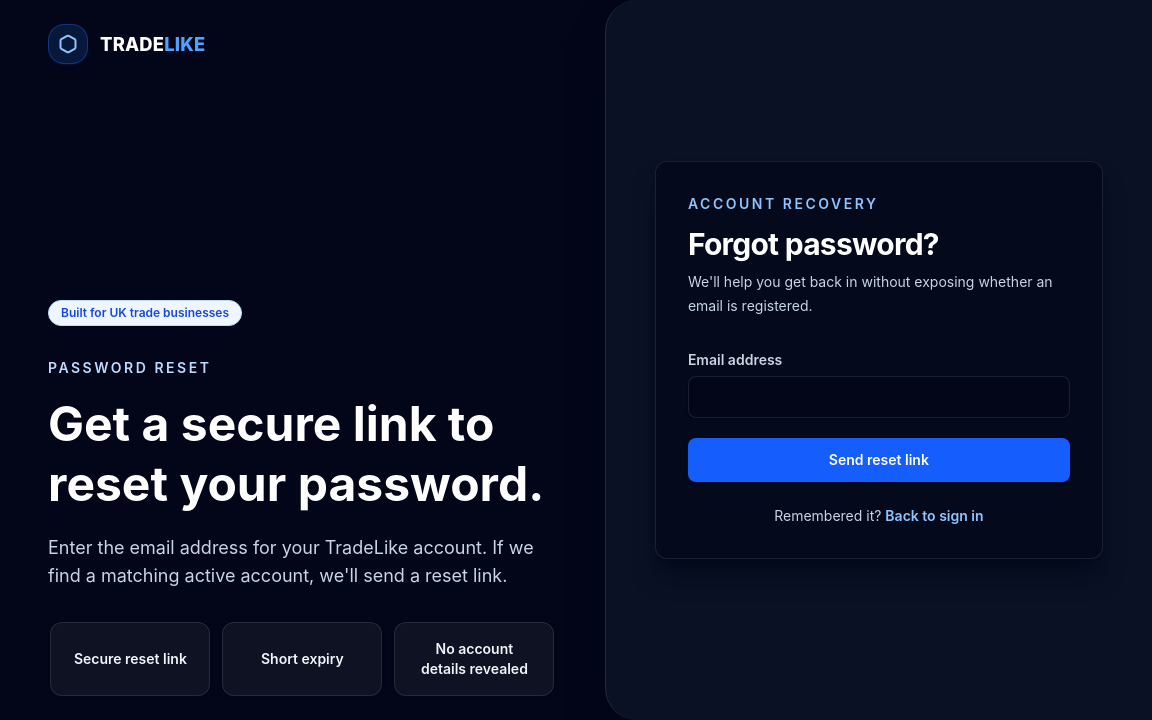
ForgotPassword › submits the email and shows the generic success message
Type "USER@example.com" into the field labelled "Email address" at {"x": 879, "y": 397}, box [688,376,1070,418]
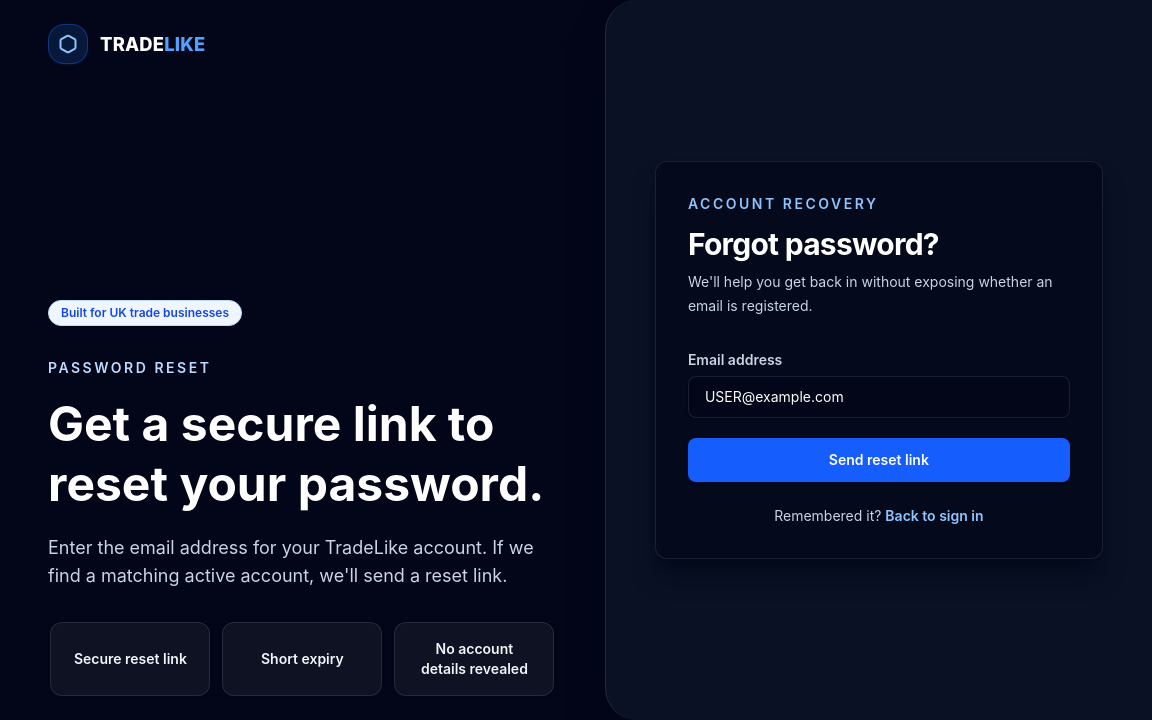
Click the button "Send reset link" at {"x": 879, "y": 460}, box [688,438,1070,482]
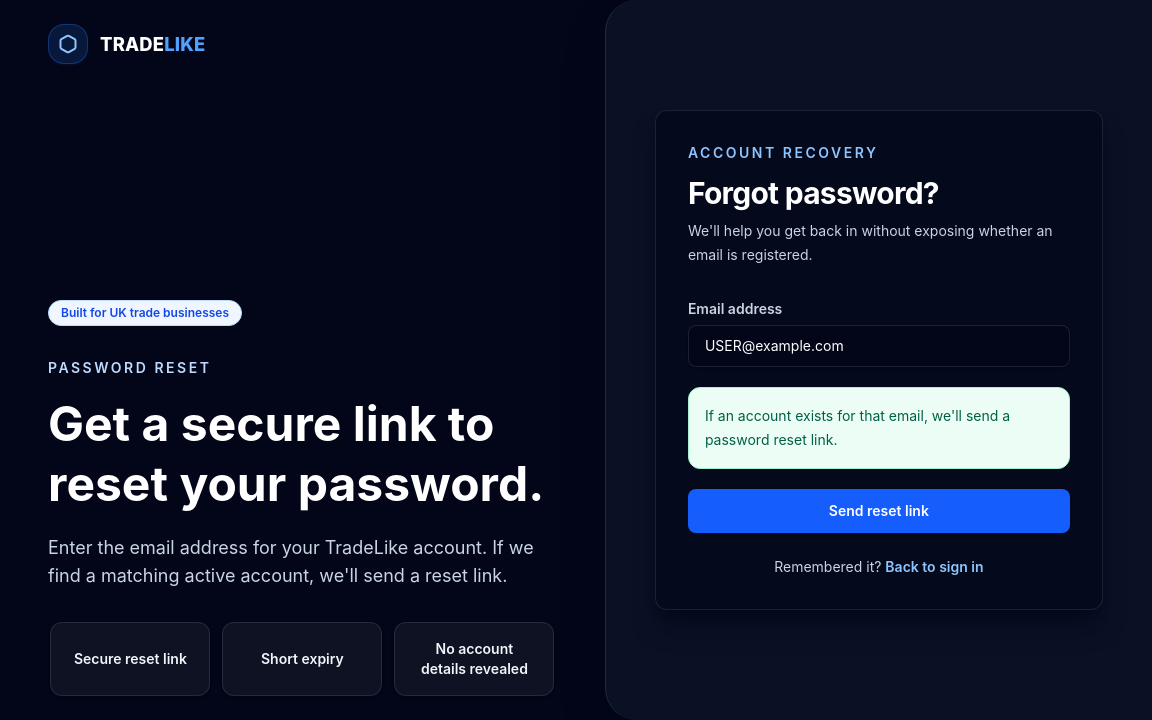
Expected: the text "If an account exists" is shown, [705,407,1010,448]
